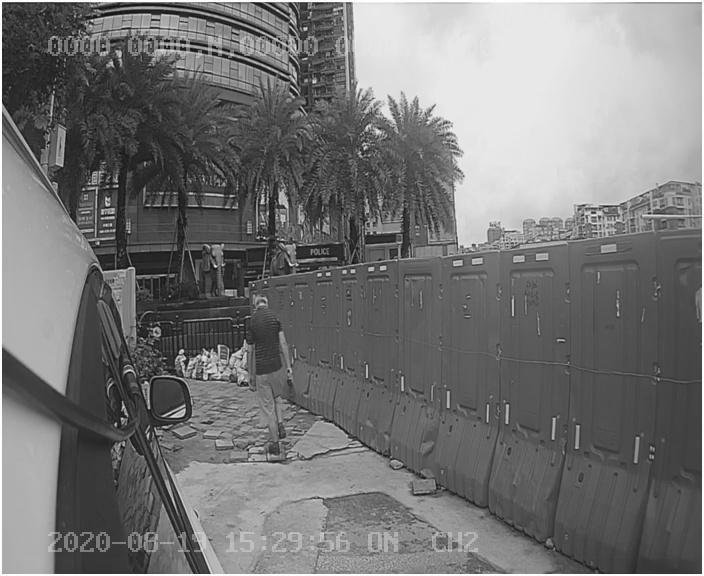person: (239, 294, 313, 462)
